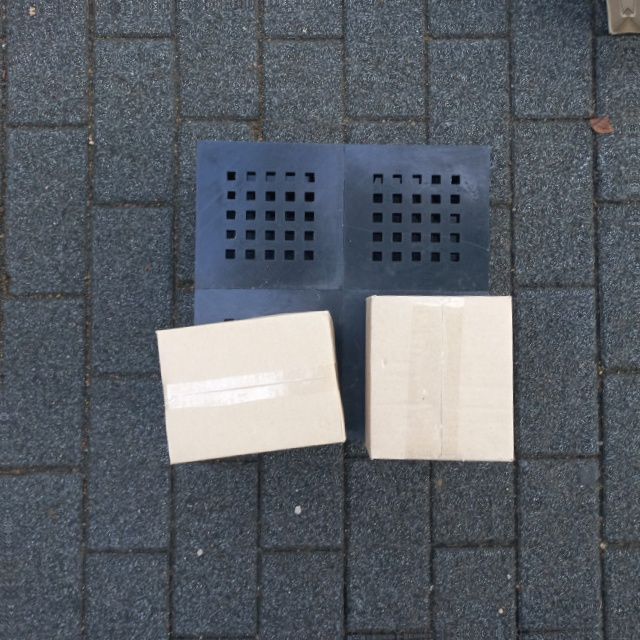box: (152, 306, 346, 469), (364, 291, 516, 465)
